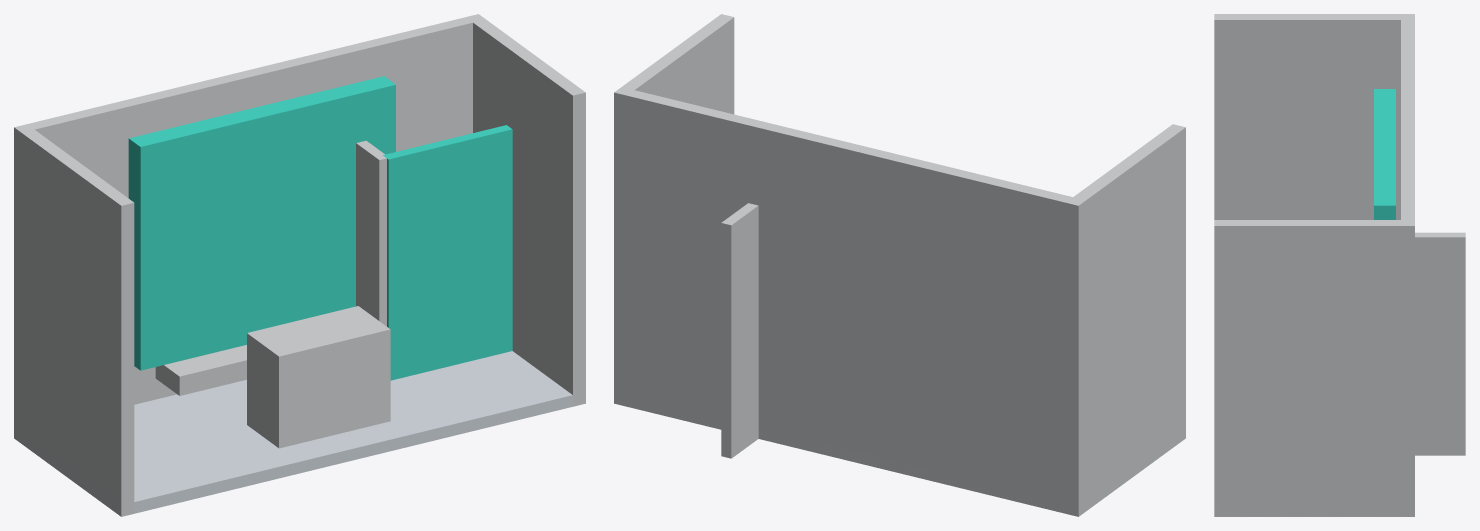
3 views of the same model, side by side, from view 1: azimuth 30°, elevation 25°; view 2: azimuth 150°, elevation 25°; view 3: azimuth 270°, elevation 25° (orthographic). The views are drawn at different scales.
Visible parts, largest first — view 1: Exhibition Booth Concept; view 2: Exhibition Booth Concept; view 3: Exhibition Booth Concept.
Part boxes in pixels (x1=…): Exhibition Booth Concept: x1=14, y1=14, x2=585, y2=516; Exhibition Booth Concept: x1=614, y1=14, x2=1185, y2=516; Exhibition Booth Concept: x1=1214, y1=14, x2=1465, y2=516.
Bounding box in the file's own units: 5 × 3.2 × 2.5.
